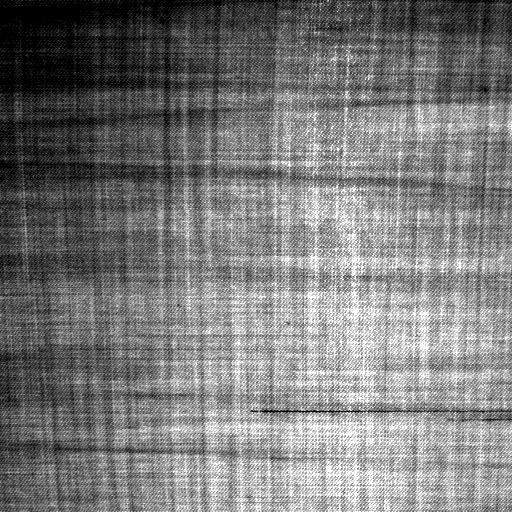fabric_thick_weft: (247, 406, 512, 415), (448, 414, 512, 426)
